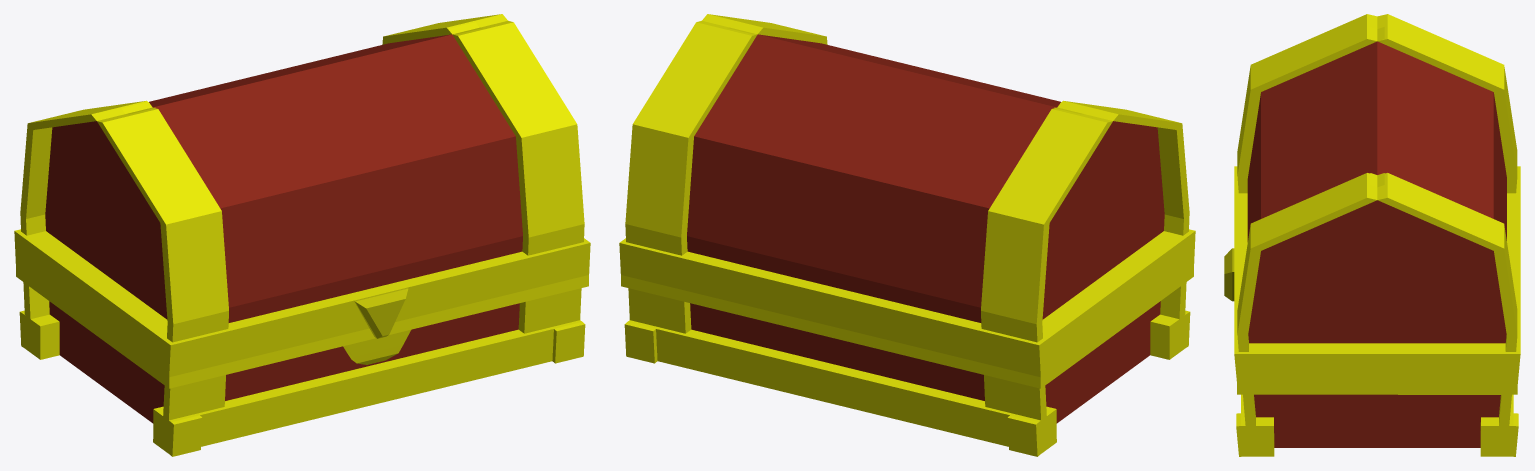
Rendered from sandik.fbx.
3 views of the same model, side by side, from view 1: azimuth 30°, elevation 25°; view 2: azimuth 150°, elevation 25°; view 3: azimuth 270°, elevation 25° (orthographic). The views are drawn at different scales.
Visible parts, largest first — view 1: Cylinder.001, Cylinder.002, Cube; view 2: Cylinder.001, Cylinder.002; view 3: Cylinder.001, Cylinder.002, Cube.
Boxes of the visible parts, x1=… form: Cylinder.001: x1=45, y1=34, x2=522, y2=423; Cylinder.002: x1=14, y1=14, x2=590, y2=456; Cube: x1=354, y1=288, x2=408, y2=338; Cylinder.001: x1=687, y1=34, x2=1164, y2=423; Cylinder.002: x1=619, y1=14, x2=1195, y2=456; Cylinder.001: x1=1247, y1=41, x2=1506, y2=447; Cylinder.002: x1=1234, y1=14, x2=1520, y2=456; Cube: x1=1224, y1=248, x2=1234, y2=301.
Size of the model in its own units: 199 by 192 by 298.
